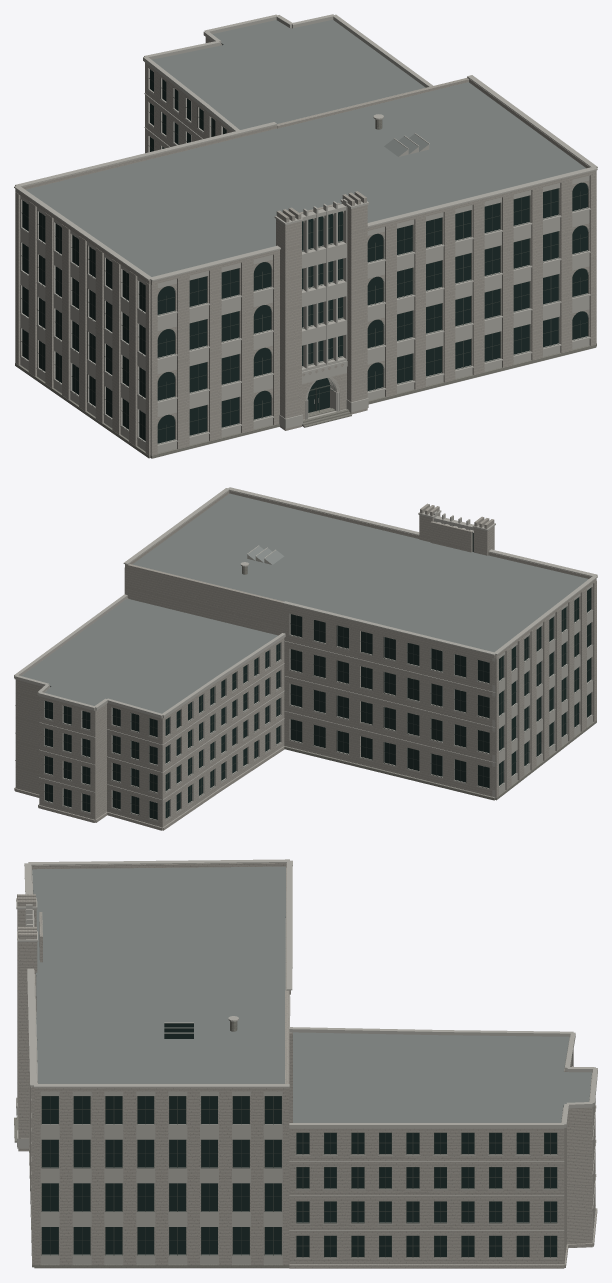
3 views of the same model, one above another, from view 1: azimuth 30°, elevation 25°; view 2: azimuth 150°, elevation 25°; view 3: azimuth 270°, elevation 25° (orthographic). The views are drawn at different scales.
Visible parts, largest first — view 1: centralLibrary__roof, centralLibrary__stone, centralLibrary__cream, centralLibrary__glass, centralLibrary__frame, centralLibrary__rough; view 2: centralLibrary__stone, centralLibrary__roof, centralLibrary__glass, centralLibrary__cream, centralLibrary__frame, centralLibrary__rough; view 3: centralLibrary__roof, centralLibrary__stone, centralLibrary__glass, centralLibrary__cream, centralLibrary__frame, centralLibrary__rough.
Boxes of the visible parts, x1,y1,x2,y2 form: centralLibrary__roof: [26, 19, 585, 276]; centralLibrary__stone: [15, 28, 596, 455]; centralLibrary__cream: [14, 14, 597, 453]; centralLibrary__glass: [22, 69, 587, 443]; centralLibrary__frame: [20, 69, 588, 444]; centralLibrary__rough: [15, 119, 596, 458]; centralLibrary__stone: [14, 490, 596, 830]; centralLibrary__roof: [21, 493, 588, 713]; centralLibrary__glass: [45, 532, 591, 819]; centralLibrary__cream: [14, 487, 597, 827]; centralLibrary__frame: [44, 523, 591, 820]; centralLibrary__rough: [242, 566, 596, 800]; centralLibrary__roof: [32, 866, 591, 1122]; centralLibrary__stone: [17, 863, 597, 1268]; centralLibrary__glass: [42, 1023, 556, 1256]; centralLibrary__cream: [16, 859, 597, 1264]; centralLibrary__frame: [41, 1054, 572, 1257]; centralLibrary__rough: [14, 1021, 289, 1268].
Bounding box in the file's own units: 63.59 × 28.24 × 69.1.
Materials: 7 (2 with a texture image).
